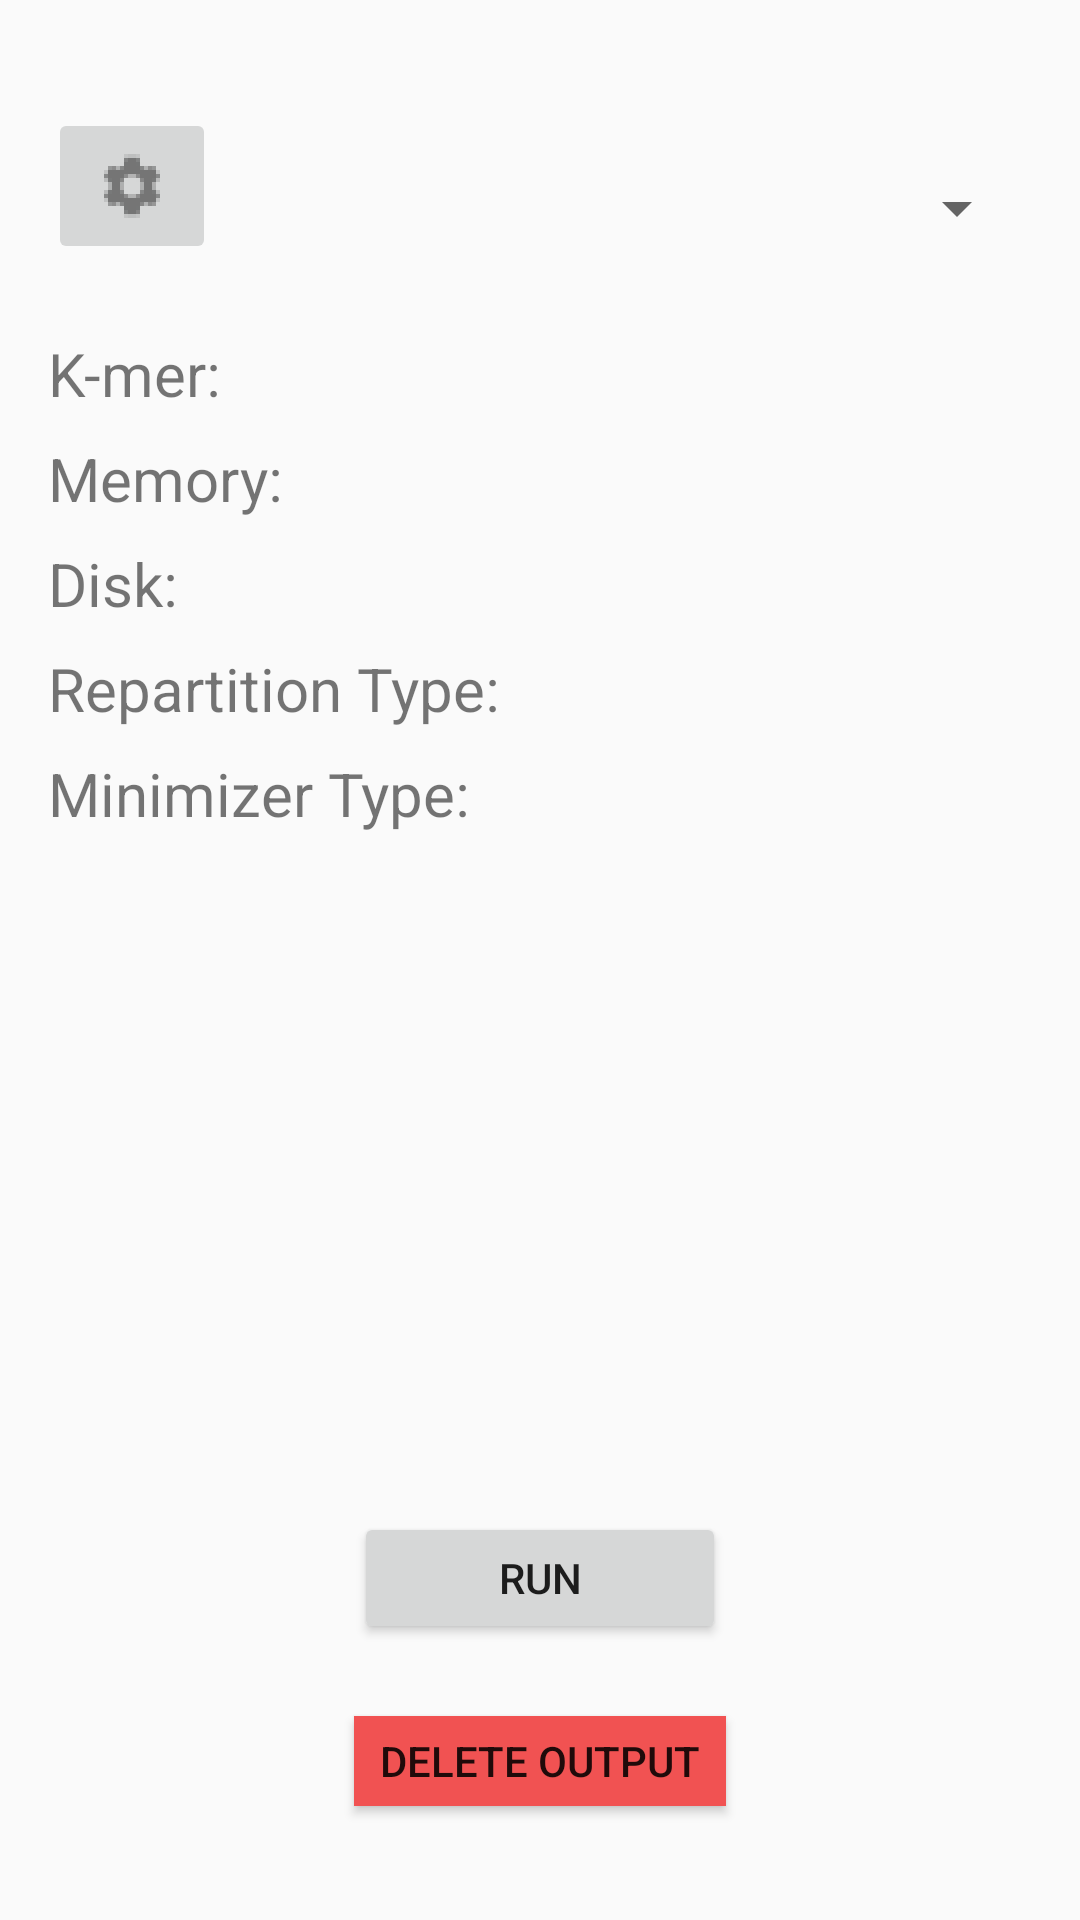

Where to tap for icons on this 1080*1920 app screen, as [x,y]:
settings: [132,186]
